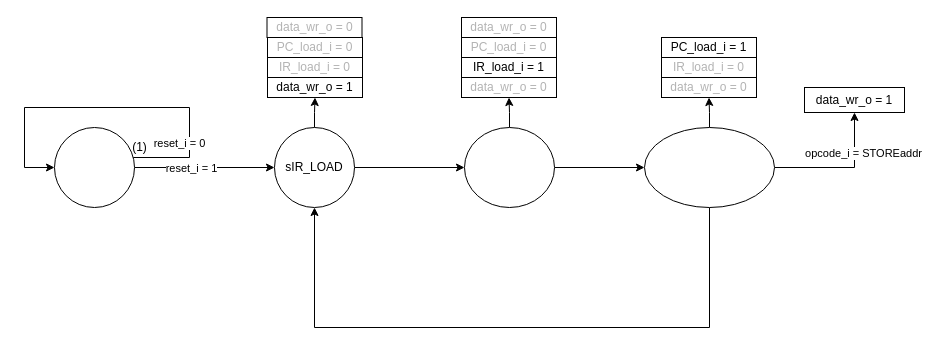
This 939x353 diagram has some shape labels left out. Each missing label, with the centre of its shape:
"sIR_DECODE" goes at [509,167].
"sOPCODE_DECDE" goes at [709,167].
"sRESET" goes at [94,167].
